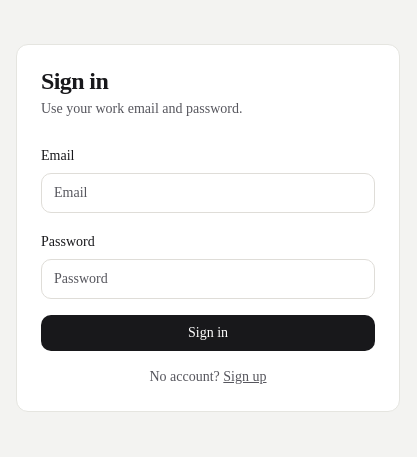
Scenario: shows safe accessible failure at HTTP 401 without navigation
Type "fixture@example.invalid" into the field with placeholder "Email". click: x=208, y=193
box: [41, 173, 375, 213]
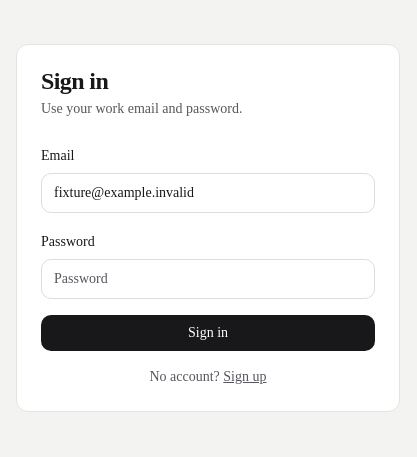
Type "fixture-password" into the password field with placeholder "Password". click: x=208, y=279
box: [41, 259, 375, 299]
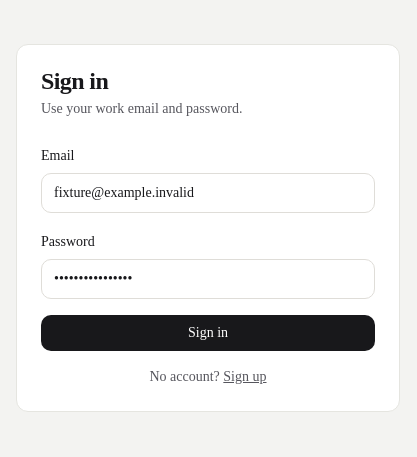
Submit the form "Sign in", box [41, 143, 375, 351]
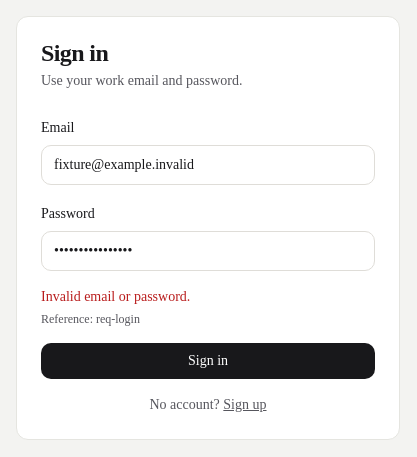
expect the message does not show "fixture-secret-do-not-display": met, box [41, 289, 190, 304]
expect the text "Reference: req-login" is shown: met, box [41, 312, 140, 326]
